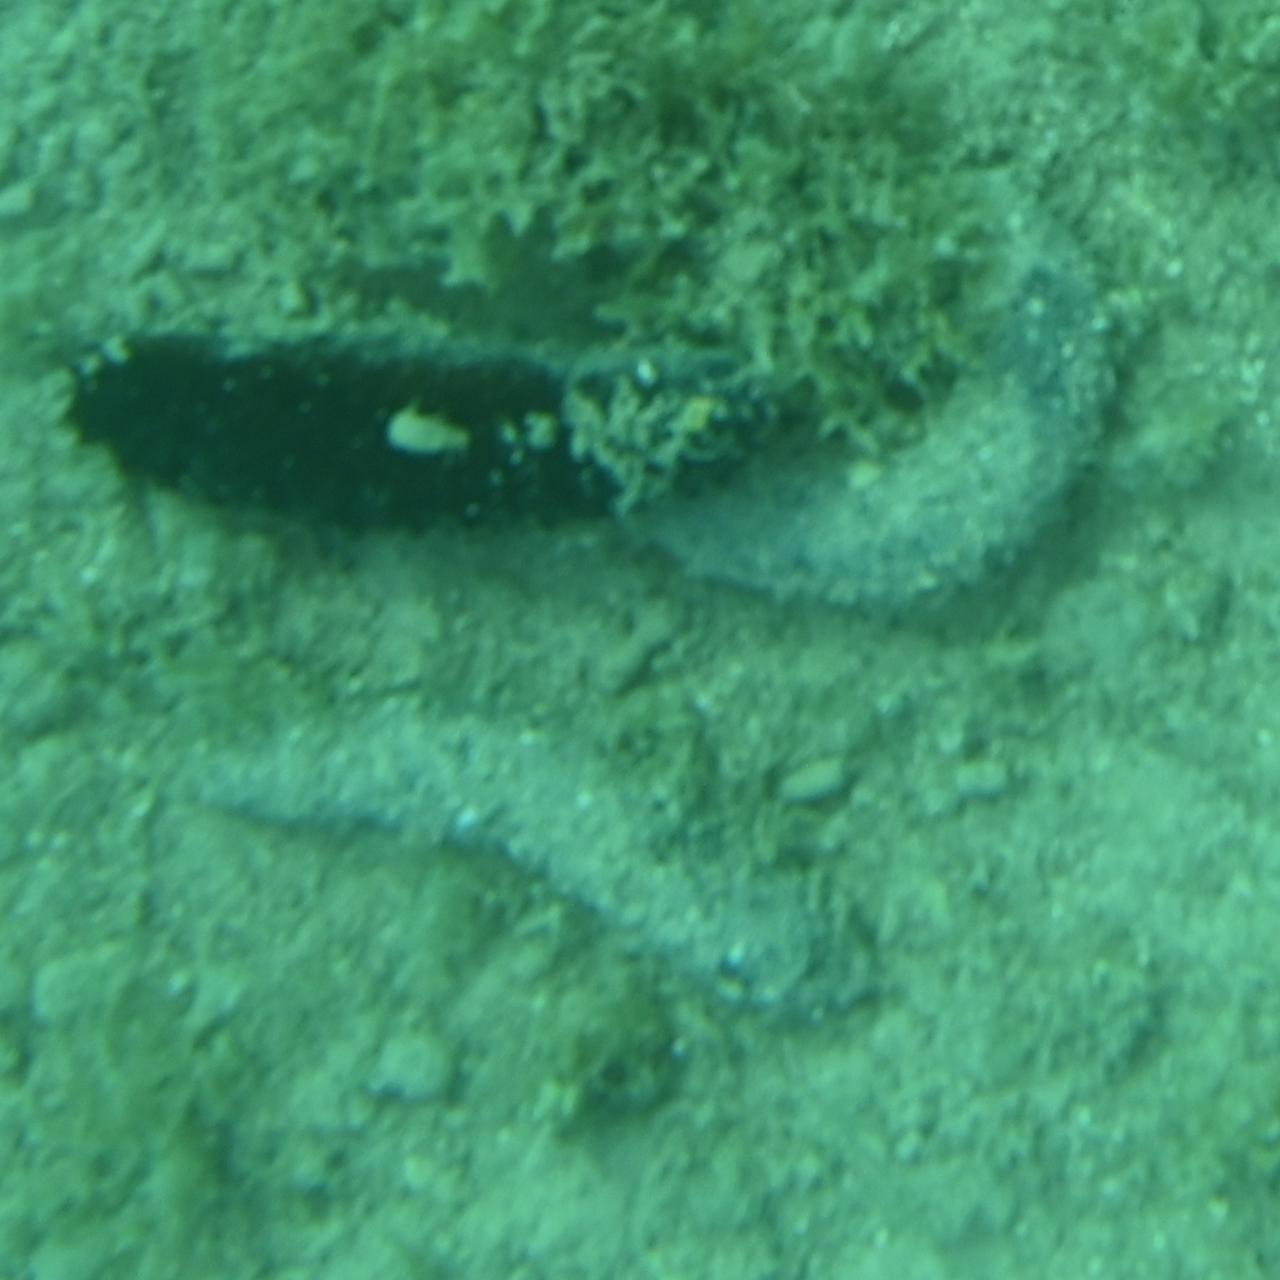Holothuria tubulosa: (151, 701, 851, 1040), (624, 199, 1124, 622), (49, 325, 763, 535)
